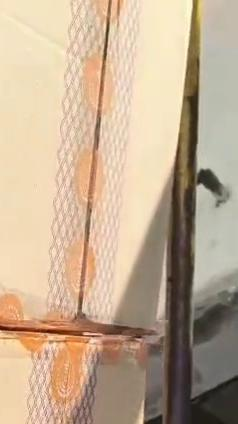box: (0, 333, 144, 423)
